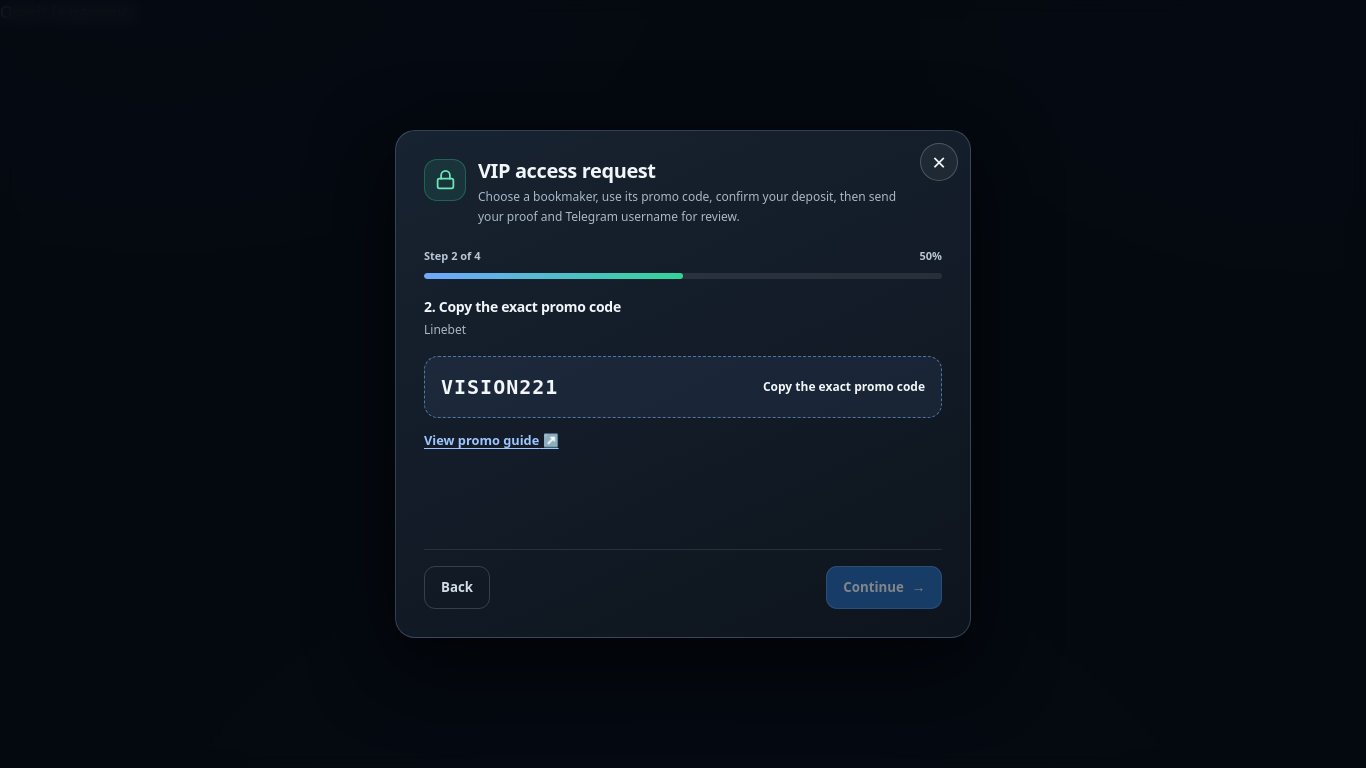
Test case: parcours VIP à quatre étapes, interactions localisées › valide la copie, les confirmations et le dépôt minimal avant l’étape 4 en en
Earlier steps of the test are not shown.
Click the button "VISION221 Copy the exact promo code" at (500,387), box [424, 356, 942, 418]
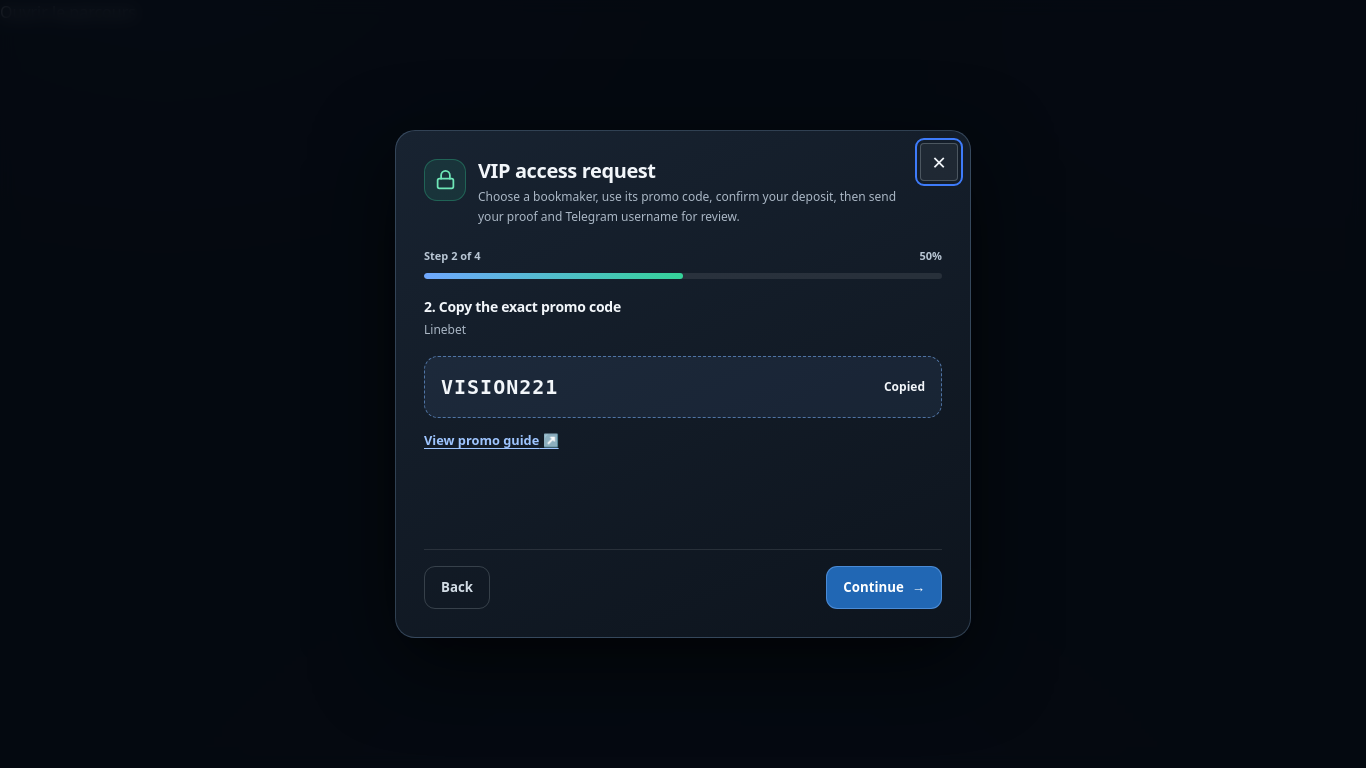
Expected: the text "Copied" is shown, [884, 379, 925, 395]
Click the button "Continue →" at (884,588), box [826, 566, 942, 609]
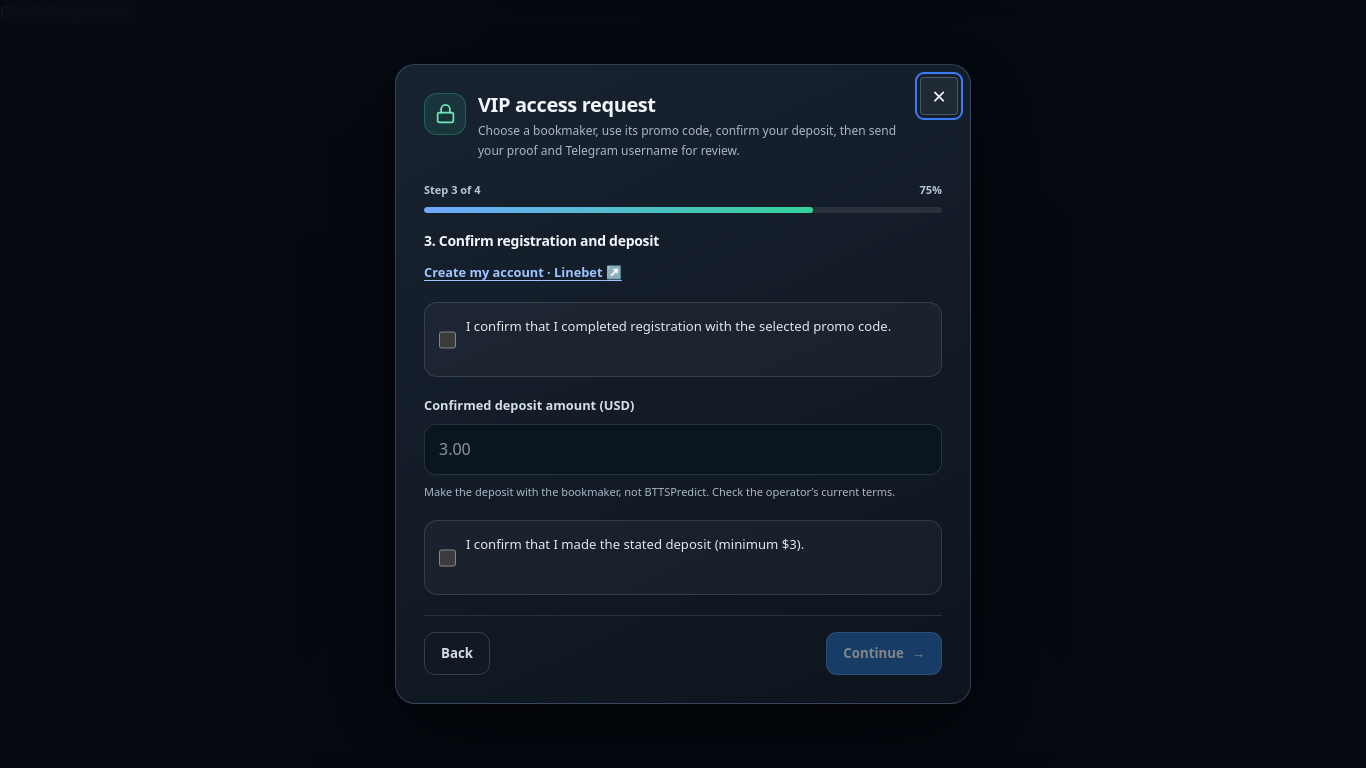
Expected: the button "Continue →" is disabled, [826, 632, 942, 675]
Click the 1st checkbox at (448,340), box [439, 318, 456, 362]
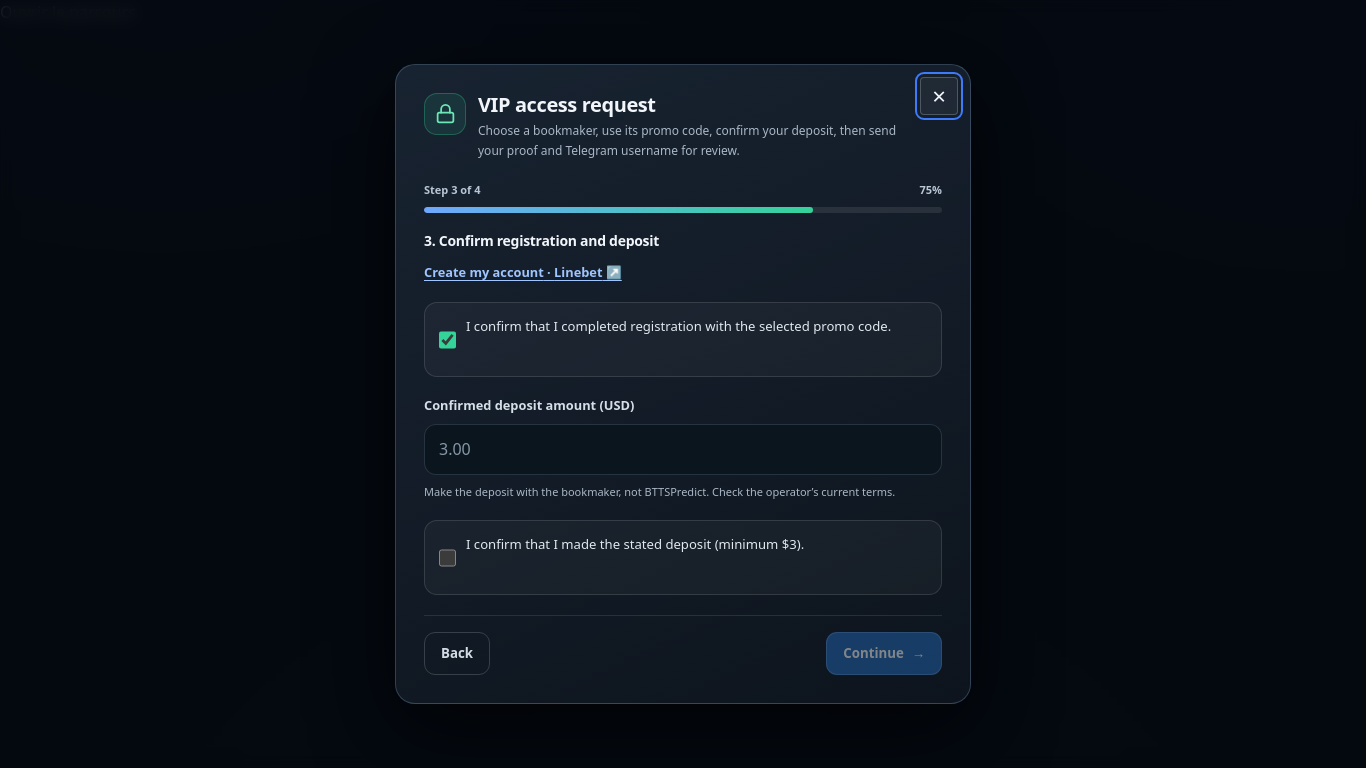
Type "2.99" into the field labelled "Confirmed deposit amount (USD)" at (683,450), box [424, 424, 942, 475]
Click the checkbox labelled "I confirm that I made the stated deposit (minimum $3)." at (448,558), box [439, 536, 456, 580]
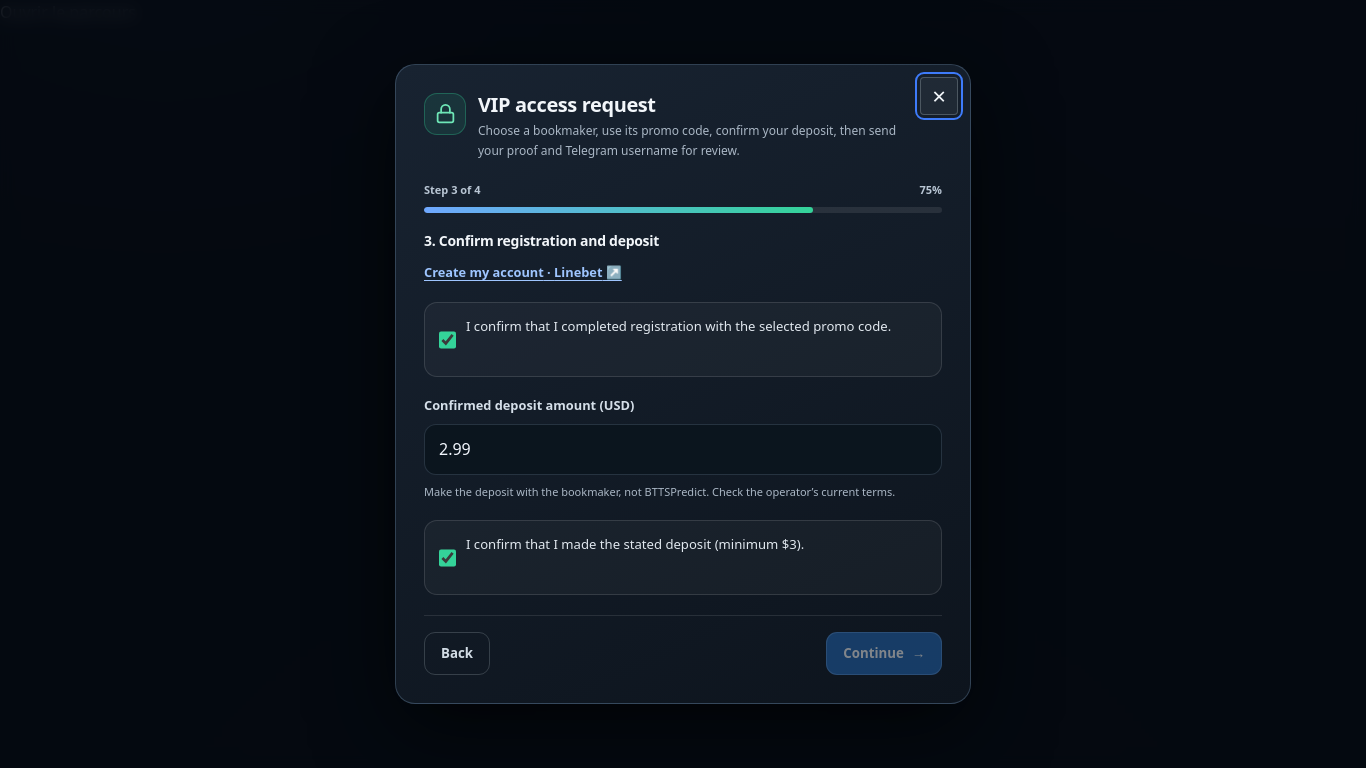
Expected: the button "Continue →" is disabled, [826, 632, 942, 675]
Replace the text in the field labelled "Confirmed deposit amount (USD)" with "3" at (683,450), box [424, 424, 942, 475]
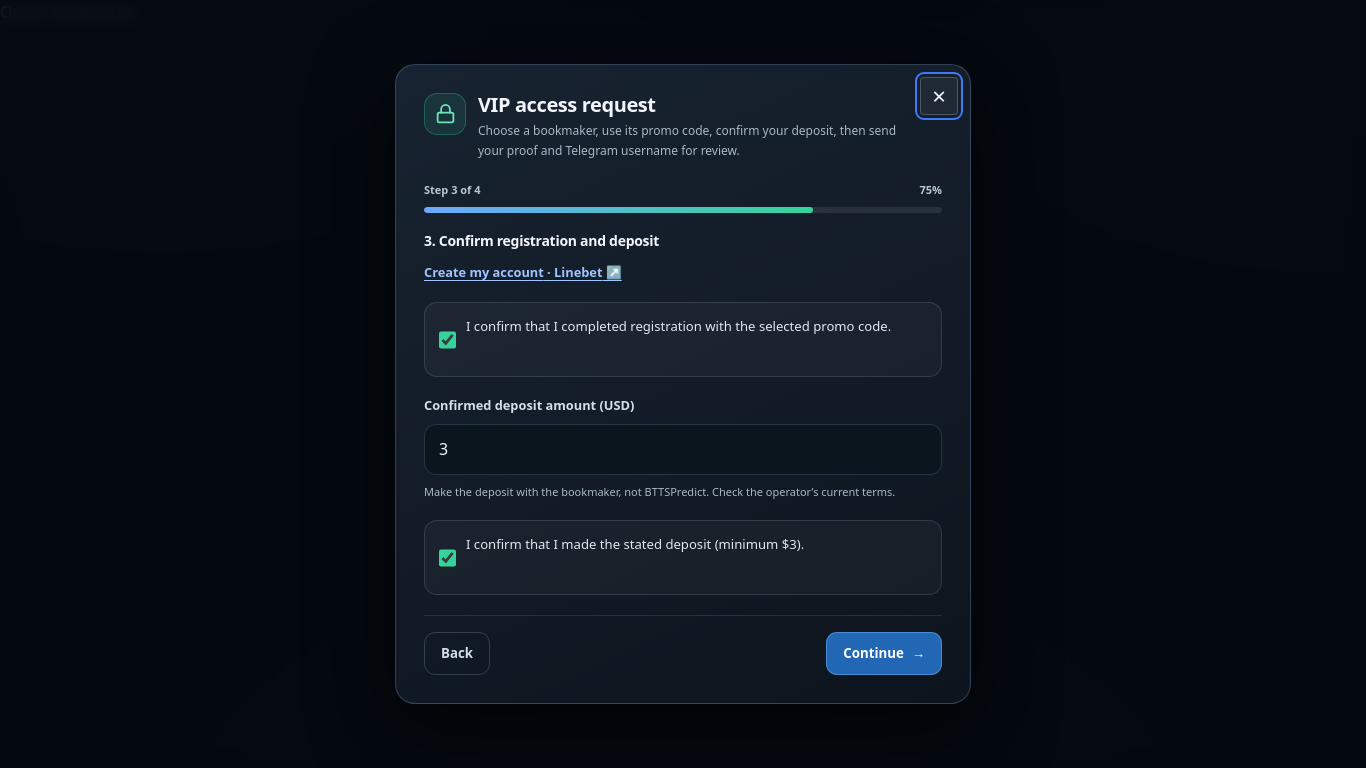
Expected: the button "Continue →" is enabled
Click the button "Continue →" at (884,654), box [826, 632, 942, 675]
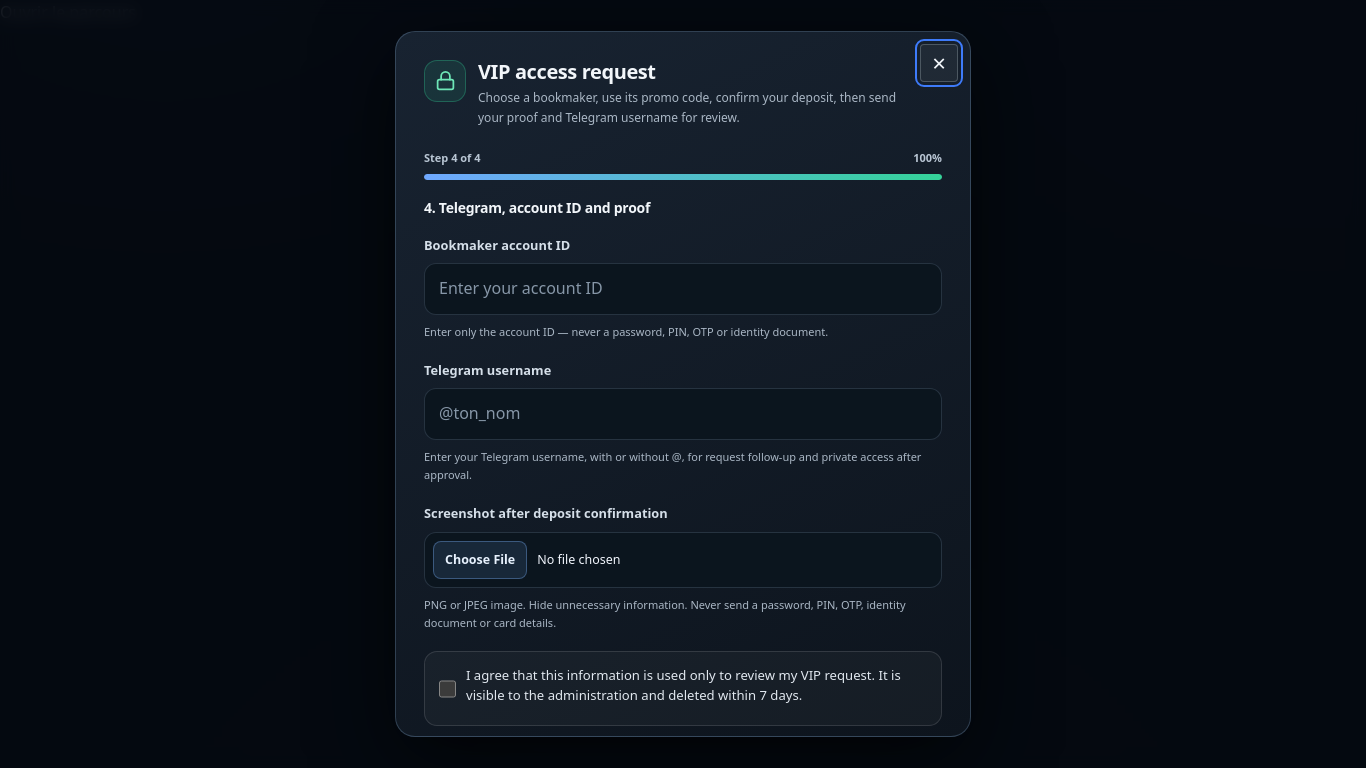
Expected: the heading "Copy the exact promo code" is not shown
Expected: the field labelled "Bookmaker account ID" is shown, [424, 263, 942, 315]
